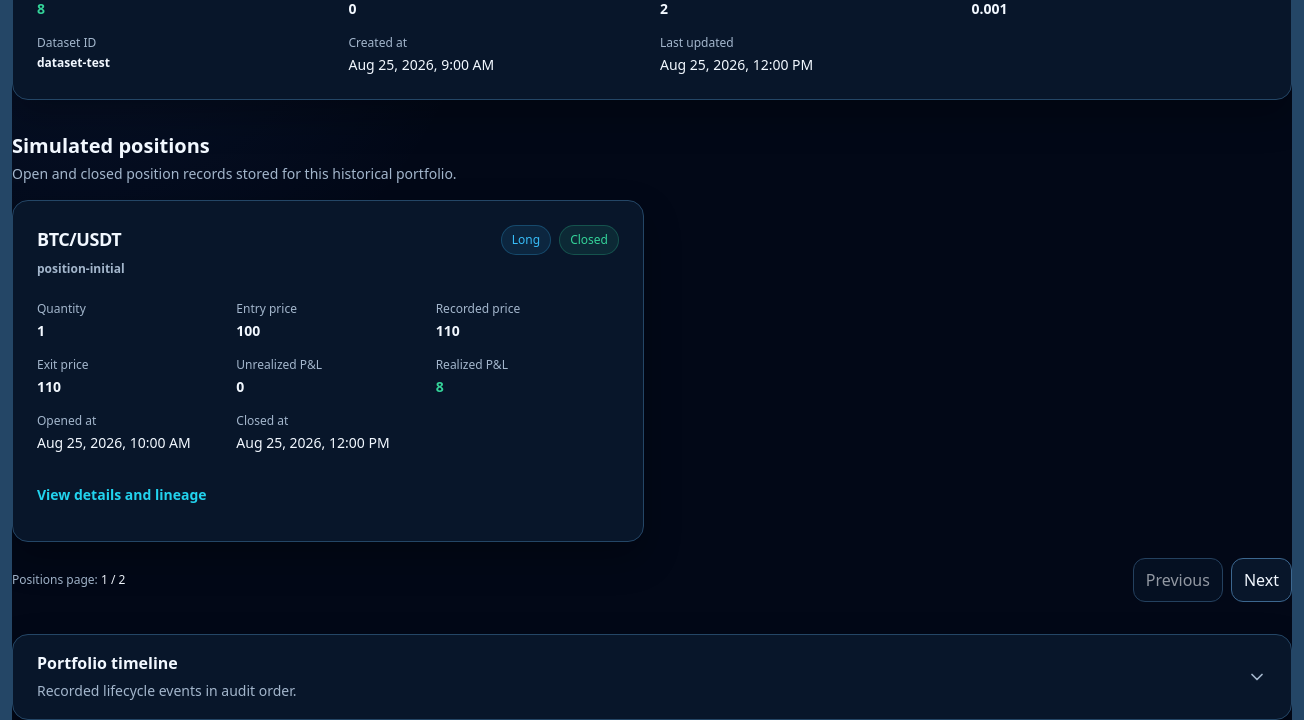
Test: PortfolioDetail › paginates position records through the read API
(page scrolled)
Step 1. Click the button "Next" → coordinates (1261, 580), box [1231,558,1292,602]
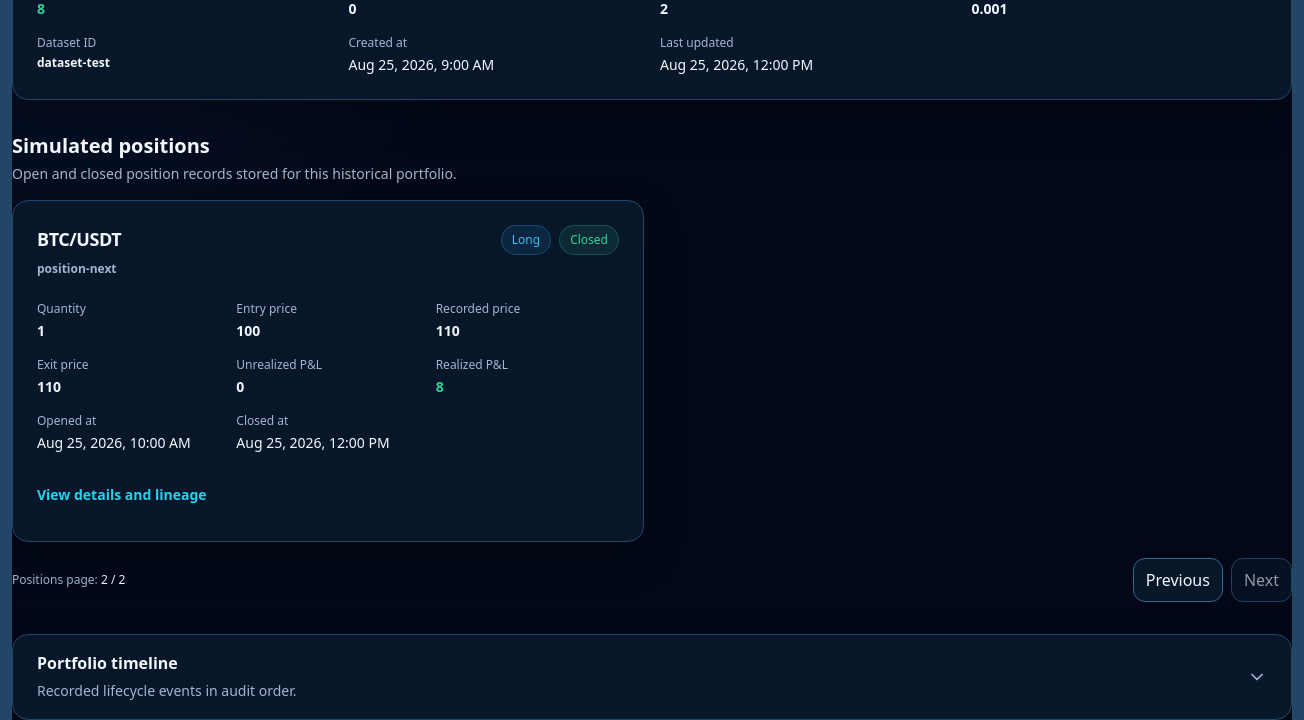
Expected: the text "position-next" is shown, [37,261,121,277]
